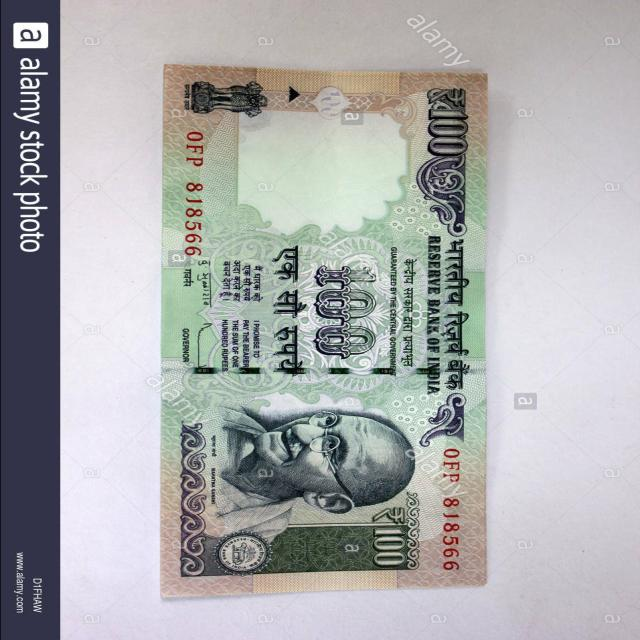100IndianRupees: (165, 65, 484, 592)
